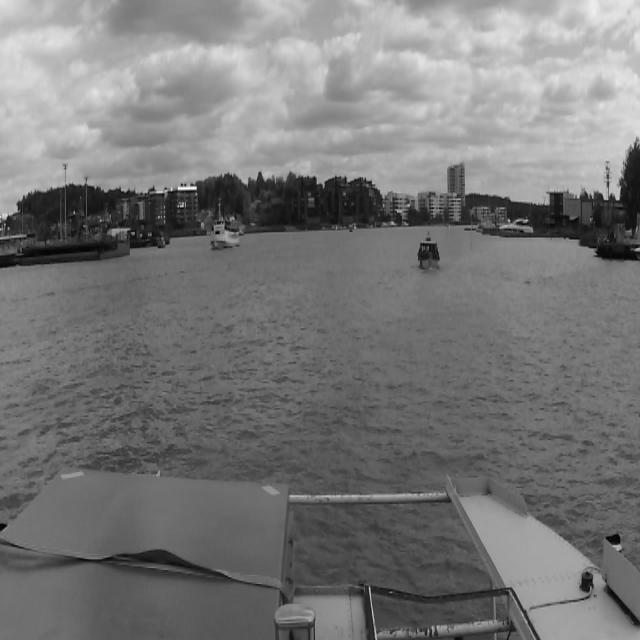ship: (206, 216, 242, 252), (419, 241, 439, 268), (498, 218, 534, 233), (231, 222, 245, 235)
